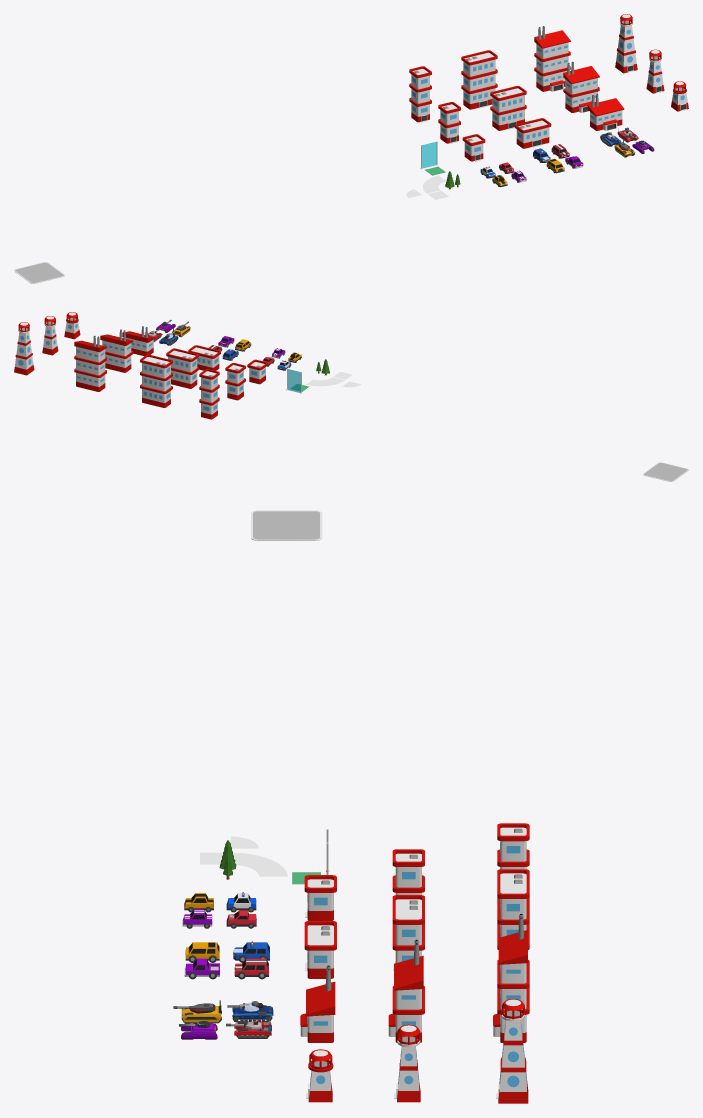
The model's file is Third_Assets.fbx.
The picture shows the model from 3 angles, top to bottom: view 1: azimuth 30°, elevation 25°; view 2: azimuth 150°, elevation 25°; view 3: azimuth 270°, elevation 25°; orthographic projection. The views are drawn at different scales.
Visible parts, largest first — view 1: Building3.002, Building2.002, Building3.001, Building2.001, Building1.002, Building3, Building4.002, Building2, Building1.001, Base, Building4.001, Building1 (+1 smaller); view 2: Building3.002, Building2.002, Building2.001, Building3.001, Building1.002, Building4.002, Building1.001, Building3, Base, Building2, Building4.001, Building1 (+2 smaller); view 3: Building3.002, Building4.002, Building3.001, Base, Building2.002, Building2.001, Building3, Building2, Building4.001, Building1.002, Building1.001, Building1 (+1 smaller).
Part boxes in pixels (left/top/right/bottom): Building3.002: left=534, top=26, right=570, bottom=91; Building2.002: left=461, top=50, right=497, bottom=109; Building3.001: left=563, top=61, right=599, bottom=112; Building2.001: left=490, top=86, right=526, bottom=130; Building1.002: left=409, top=66, right=431, bottom=122; Building3: left=587, top=94, right=624, bottom=130; Building4.002: left=615, top=14, right=637, bottom=73; Building2: left=515, top=118, right=551, bottom=148; Building1.001: left=438, top=102, right=460, bottom=143; Base: left=14, top=262, right=64, bottom=283; Building4.001: left=646, top=49, right=664, bottom=93; Building1: left=462, top=134, right=485, bottom=161; Building3.002: left=74, top=335, right=107, bottom=391; Building2.002: left=140, top=354, right=172, bottom=407; Building2.001: left=166, top=348, right=198, bottom=388; Building3.001: left=100, top=329, right=133, bottom=372; Building1.002: left=199, top=369, right=219, bottom=419; Building4.002: left=14, top=322, right=34, bottom=375; Building1.001: left=225, top=363, right=245, bottom=400; Building3: left=122, top=326, right=155, bottom=356; Base: left=643, top=462, right=688, bottom=481; Building2: left=188, top=345, right=220, bottom=370; Building4.001: left=42, top=316, right=58, bottom=355; Building1: left=247, top=359, right=267, bottom=384; Building3.002: left=493, top=913, right=529, bottom=1042; Building4.002: left=496, top=999, right=528, bottom=1103; Building3.001: left=388, top=939, right=424, bottom=1042; Base: left=251, top=510, right=322, bottom=540; Building2.002: left=497, top=869, right=529, bottom=949; Building2.001: left=392, top=895, right=424, bottom=970; Building3: left=300, top=965, right=335, bottom=1042; Building2: left=304, top=921, right=336, bottom=978; Building4.001: left=394, top=1024, right=420, bottom=1102; Building1.002: left=497, top=823, right=529, bottom=869; Building1.001: left=392, top=849, right=424, bottom=894; Building1: left=304, top=875, right=336, bottom=920.
Size of the model in its own units: 9822 by 839 by 2496.
